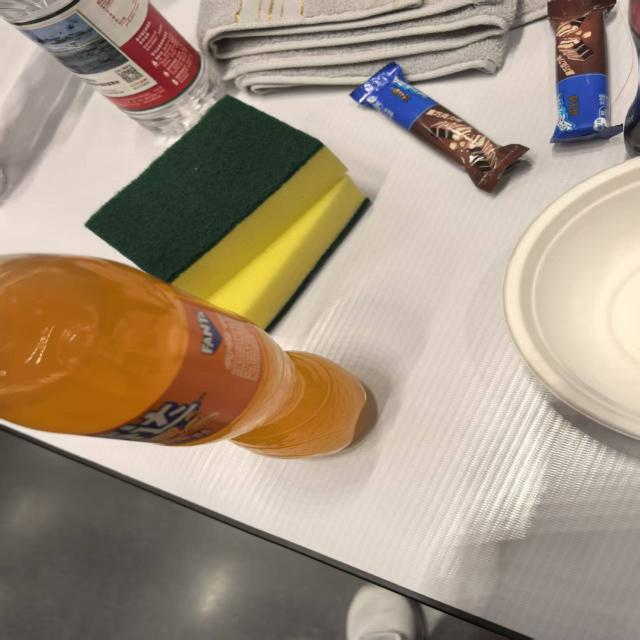orange: (93, 392, 238, 459)
